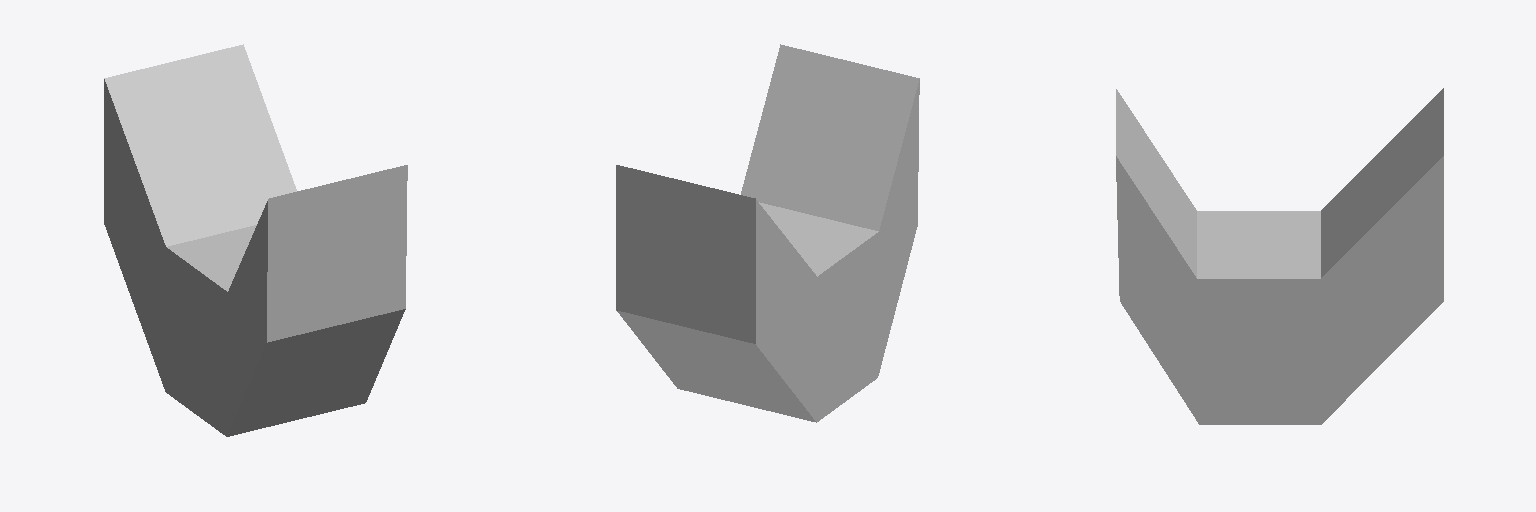
The model's file is testmod.obj.
3 renders of one model, left to right at view 1: azimuth 30°, elevation 25°; view 2: azimuth 150°, elevation 25°; view 3: azimuth 270°, elevation 25°, orthographic.
Parts seen in each view (by area): view 1: Cube; view 2: Cube; view 3: Cube.
Part boxes in pixels (x1,y1,x2,y2): Cube: (104,44,407,436); Cube: (616,44,919,422); Cube: (1116,88,1443,424).
Bounding box in the file's own units: 2 × 3.69 × 4.08.